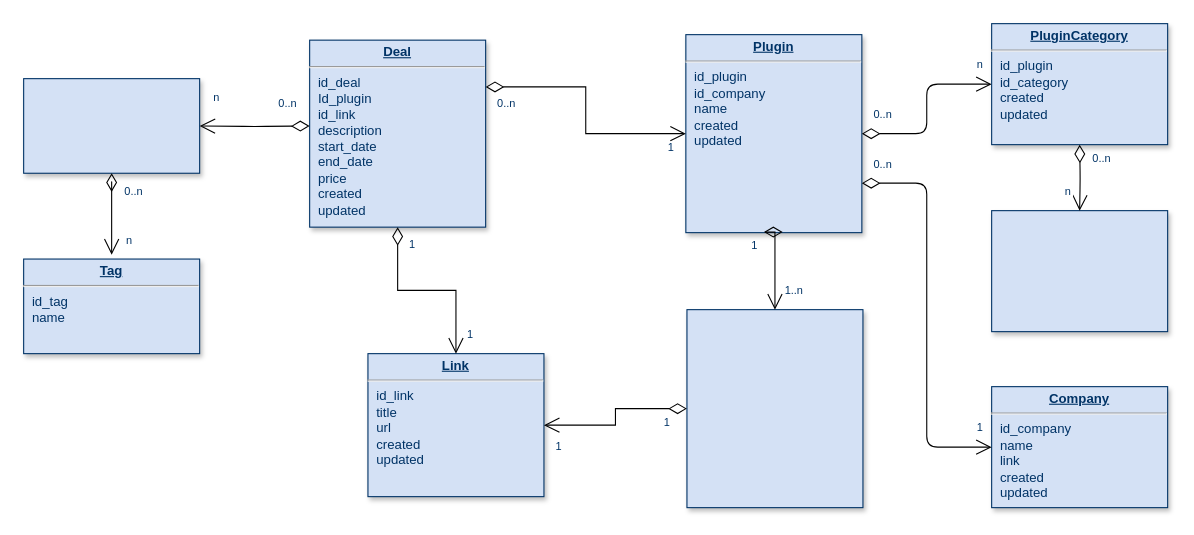
Some shapes in this 1194 by 535 pixel diagram are drawn without their labels. The shapes that lost their labels are listed below. From the top down, each one's centre as x and y in pixels, then its label:
(x=112, y=127): DealTag id_deal id_tag
(x=1080, y=272): Category id_category name created updated
(x=775, y=409): PluginLink id_plugin id_link created updated
